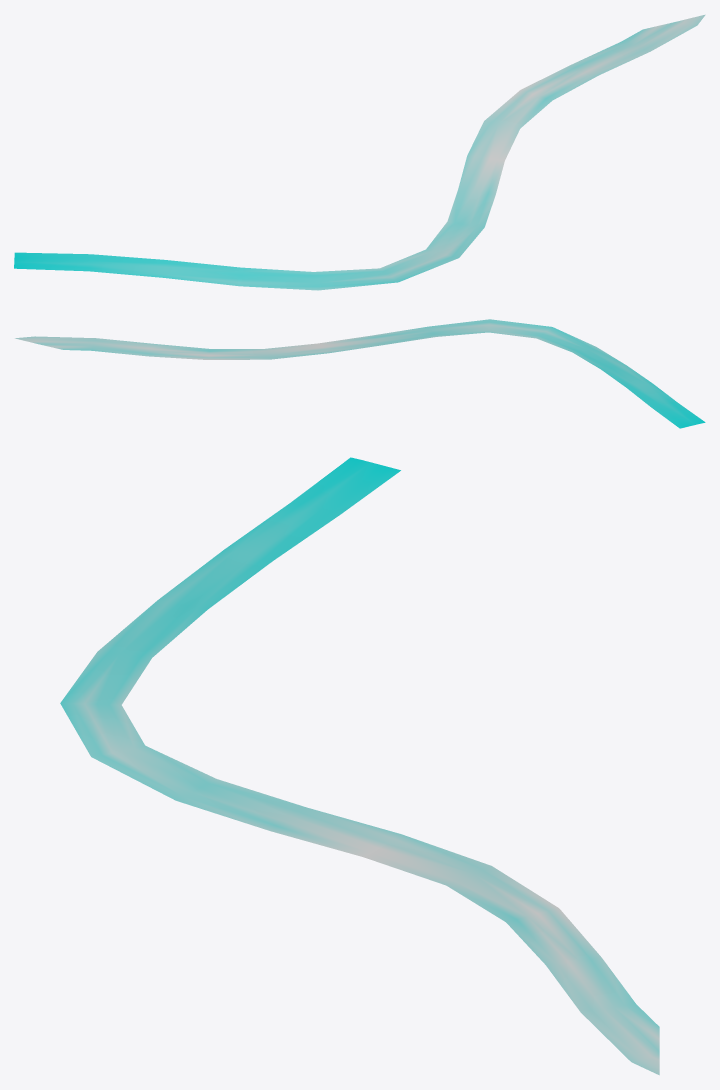
3 renders of one model, top to bottom at view 1: azimuth 30°, elevation 25°; view 2: azimuth 150°, elevation 25°; view 3: azimuth 270°, elevation 25°, orthographic. The views are drawn at different scales.
Visible parts, largest first — view 1: SpaceCenter_Long3_GenerateRoad_Sand_TireTracks_Width_Mesh_x1; view 2: SpaceCenter_Long3_GenerateRoad_Sand_TireTracks_Width_Mesh_x1; view 3: SpaceCenter_Long3_GenerateRoad_Sand_TireTracks_Width_Mesh_x1.
Part boxes in pixels (x1=…): SpaceCenter_Long3_GenerateRoad_Sand_TireTracks_Width_Mesh_x1: x1=14, y1=14, x2=705, y2=290; SpaceCenter_Long3_GenerateRoad_Sand_TireTracks_Width_Mesh_x1: x1=15, y1=319, x2=705, y2=428; SpaceCenter_Long3_GenerateRoad_Sand_TireTracks_Width_Mesh_x1: x1=60, y1=457, x2=659, y2=1075.
Size of the model in its own units: 364 by 861 by 19.7.
